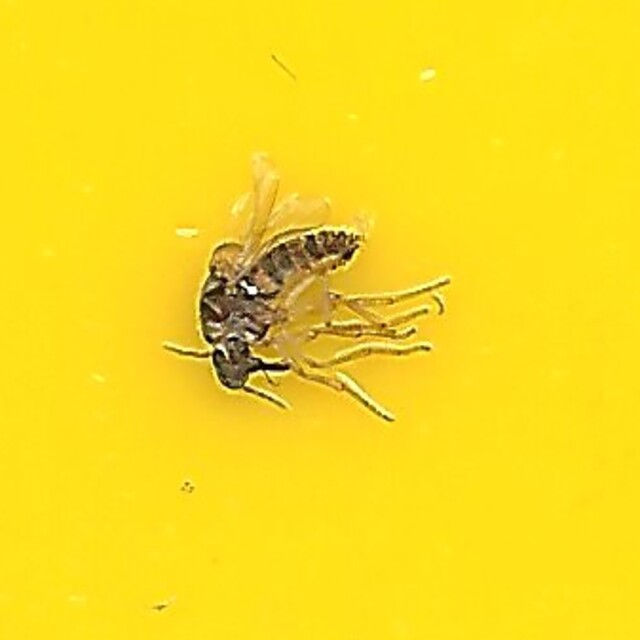Brachycera: (190, 204, 450, 436)
